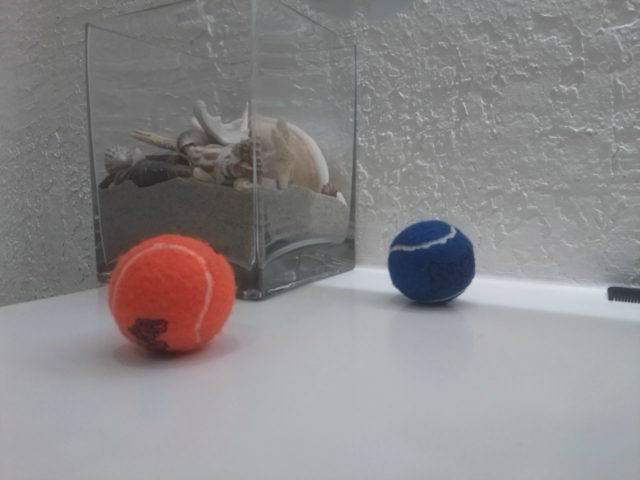blue-ball: (386, 218, 477, 308)
orange-ball: (105, 232, 237, 358)
